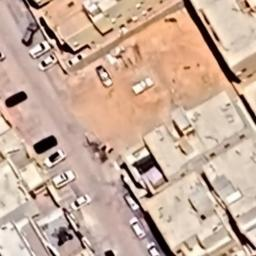SUV: (19, 20, 40, 46), (30, 42, 52, 58)
others: (50, 170, 82, 192), (44, 150, 72, 170)
sedan: (126, 213, 151, 238), (93, 63, 114, 90), (130, 76, 157, 96), (122, 188, 142, 212), (64, 50, 88, 68), (37, 53, 60, 70), (145, 242, 161, 256)
unknown: (28, 129, 62, 155), (0, 90, 32, 108), (70, 192, 96, 212)
